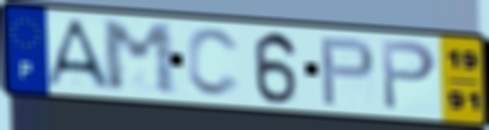6: (251, 29, 301, 107)
A: (42, 17, 115, 92)
C: (185, 26, 244, 100)
M: (98, 20, 181, 98)
P: (379, 38, 440, 114), (318, 36, 378, 109)
